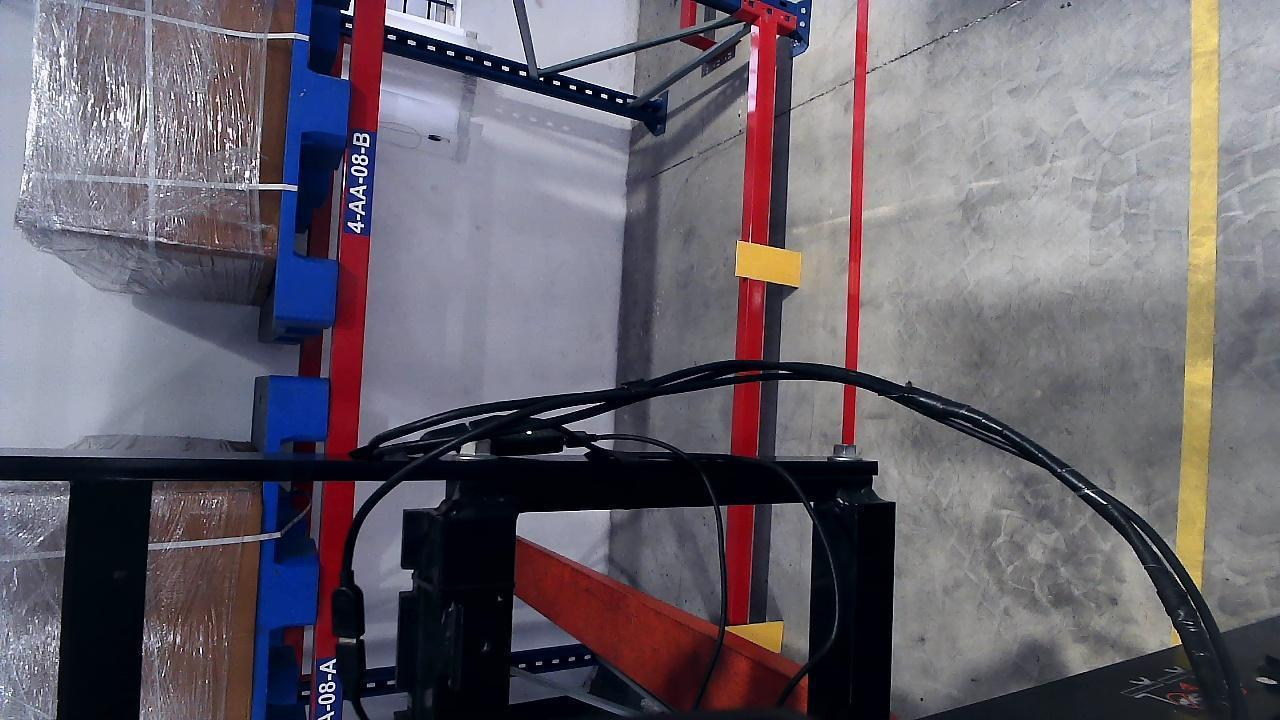red_line: (843, 3, 868, 446)
yellow_line: (1172, 1, 1221, 719)
